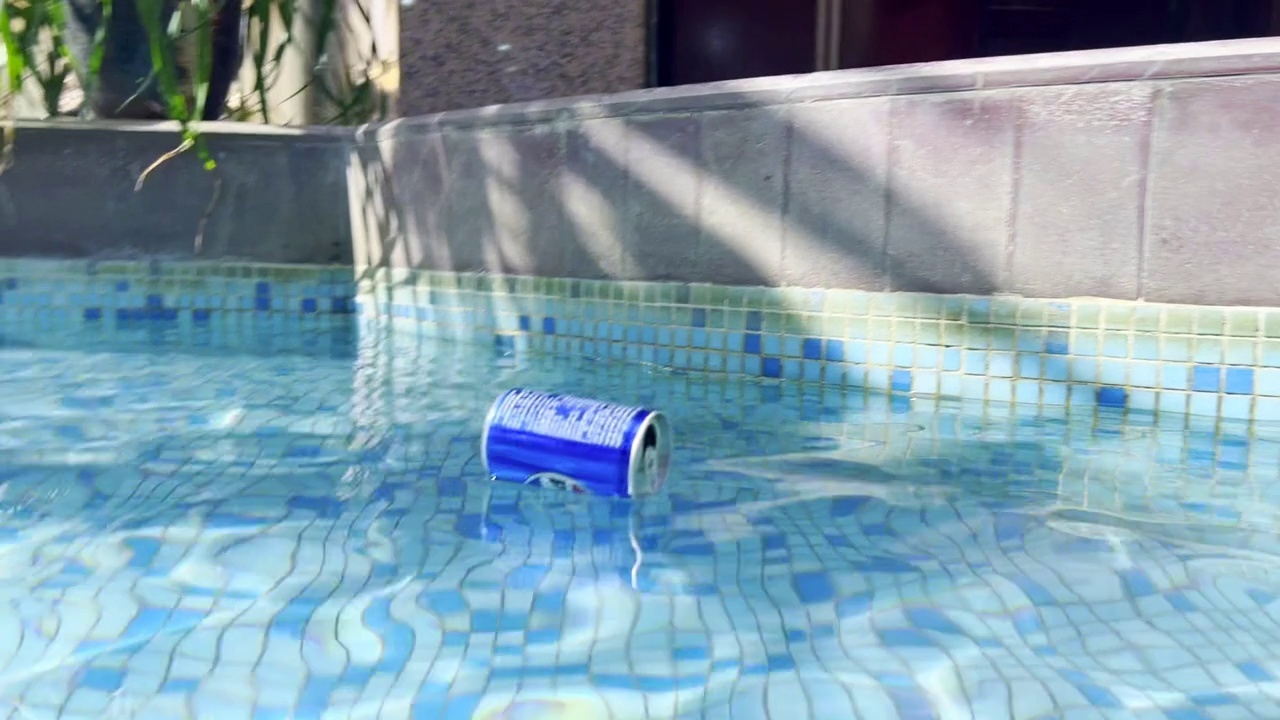debris: (473, 369, 677, 518)
